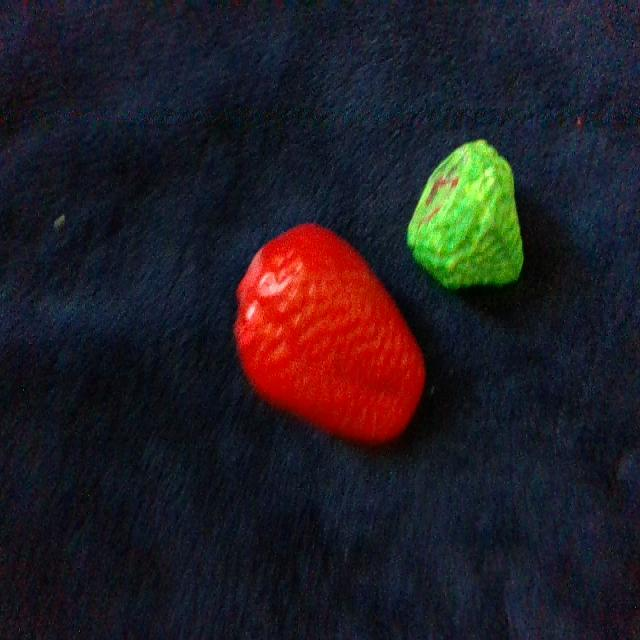grande_roja: (235, 224, 423, 441)
verde: (407, 140, 522, 288)
